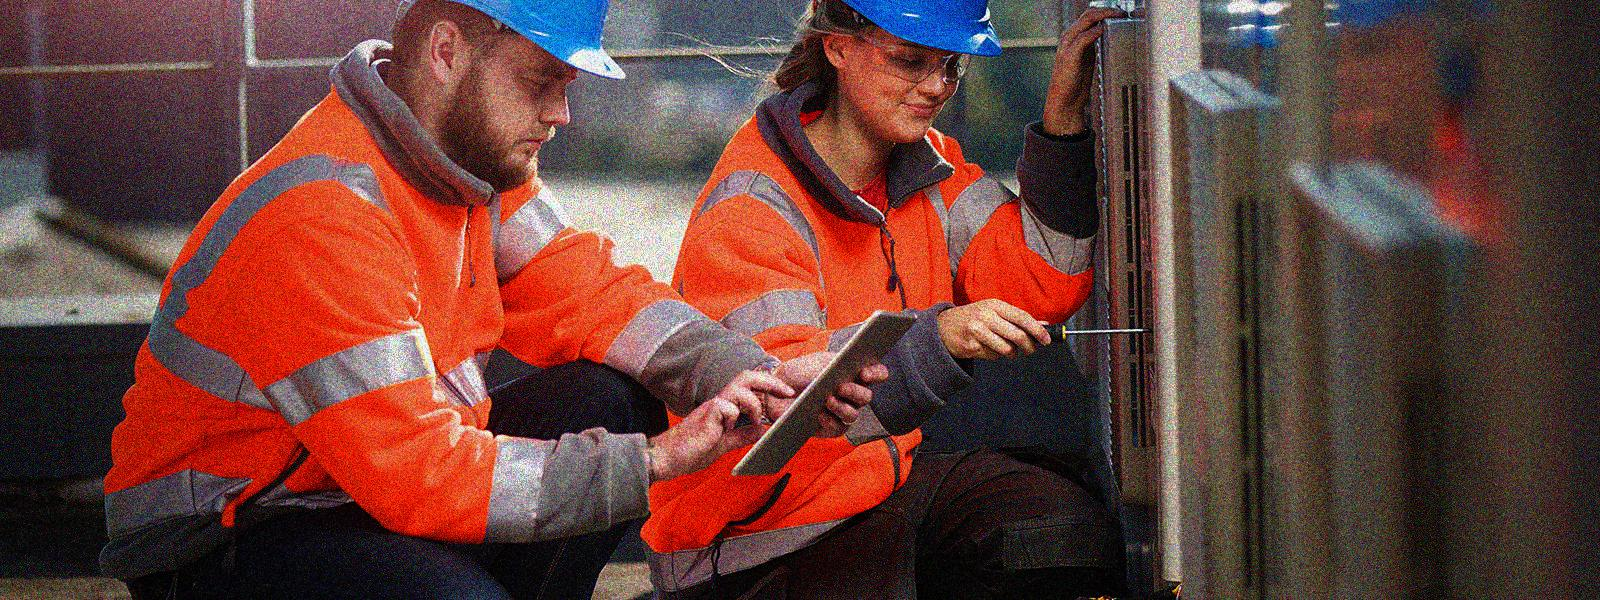helmet: (396, 1, 629, 183), (813, 1, 1005, 145)
